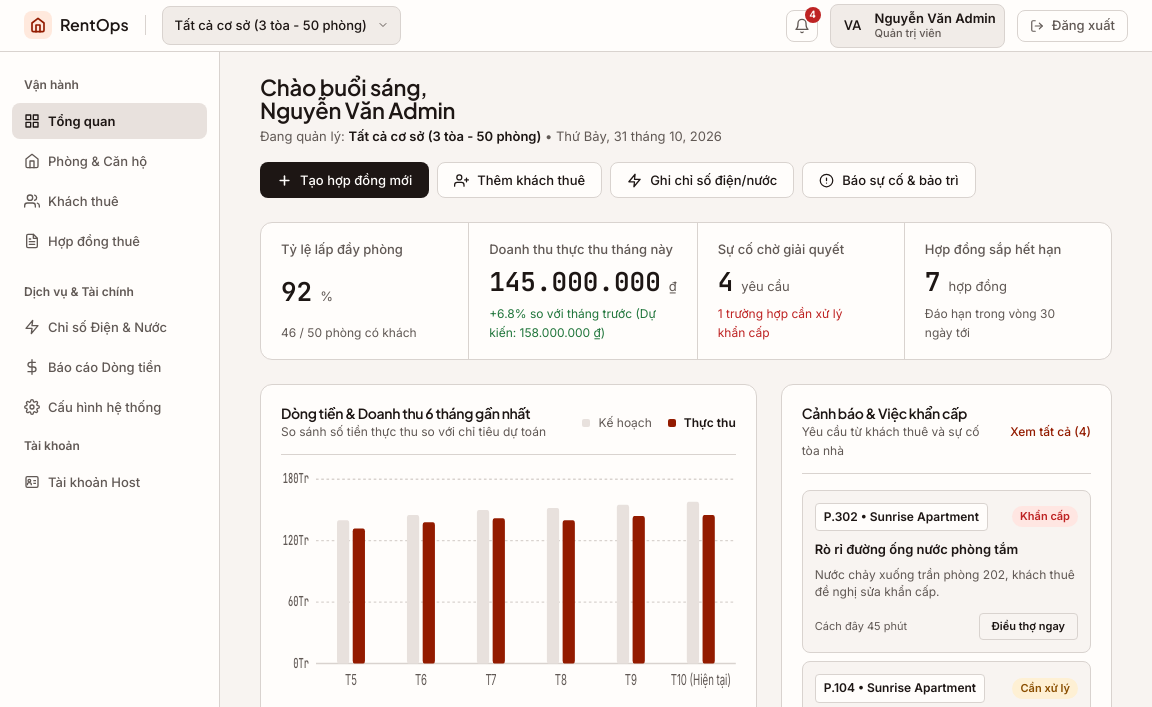
UC05 App integration › ends a forbidden operation but keeps the authenticated view
Step 1. Click the button with aria-label "Xem hồ sơ cá nhân của" → point(917, 26), box [830,4,1005,48]
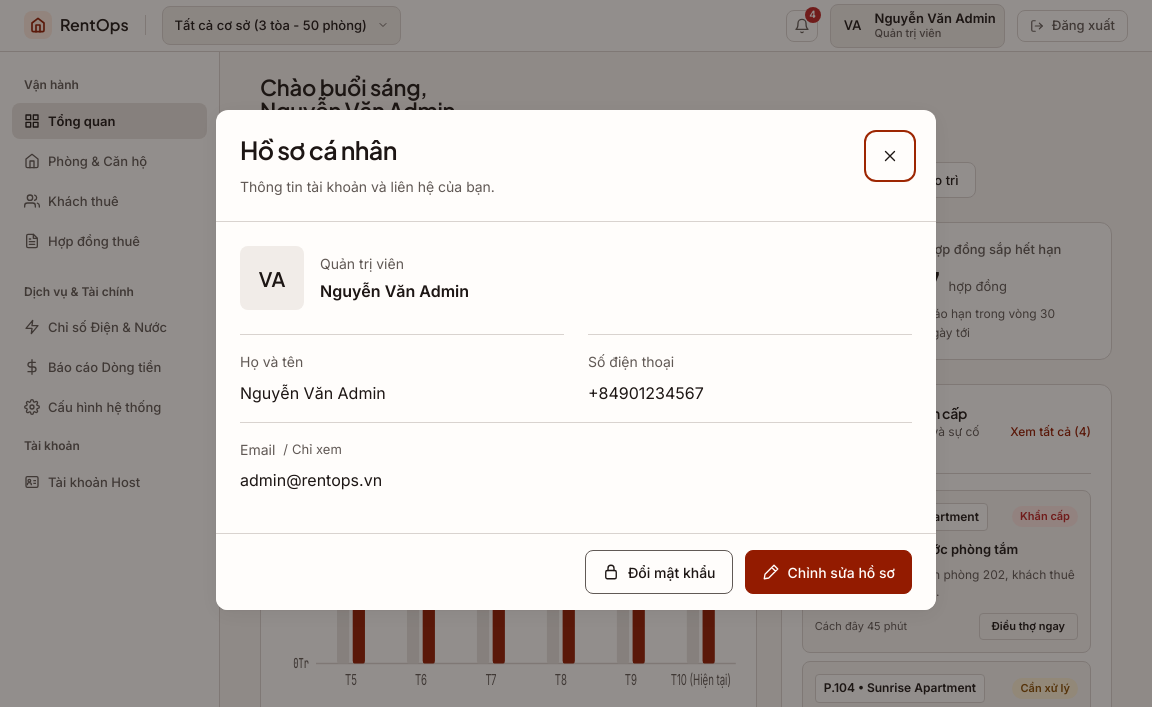
Step 2. Click the button "Đổi mật khẩu" → point(659, 572), box [585,550,732,594]
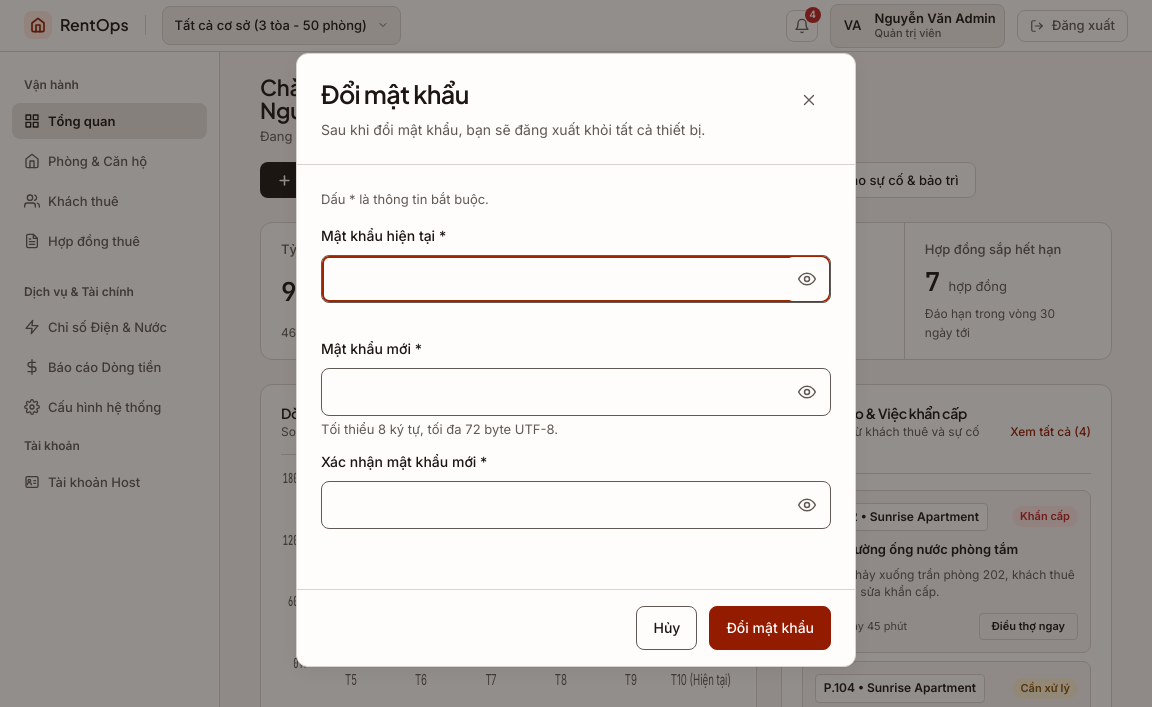
Step 3. Type "old" into the password field labelled "Mật khẩu hiện tại *" → point(576, 279), box [321,255,831,303]
Step 4. Type " newPassword123 " into the password field labelled "Mật khẩu mới *" → point(576, 392), box [321,368,831,416]
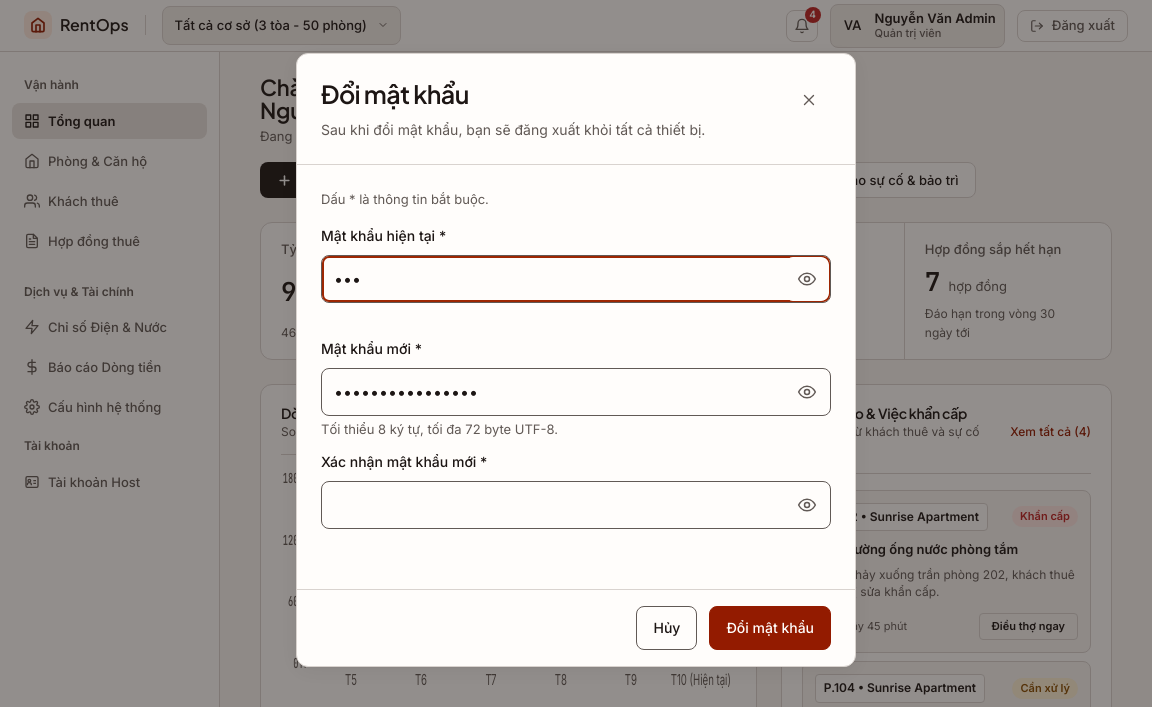
Step 5. Type " newPassword123 " into the password field labelled "Xác nhận mật khẩu mới *" → point(576, 505), box [321,481,831,529]
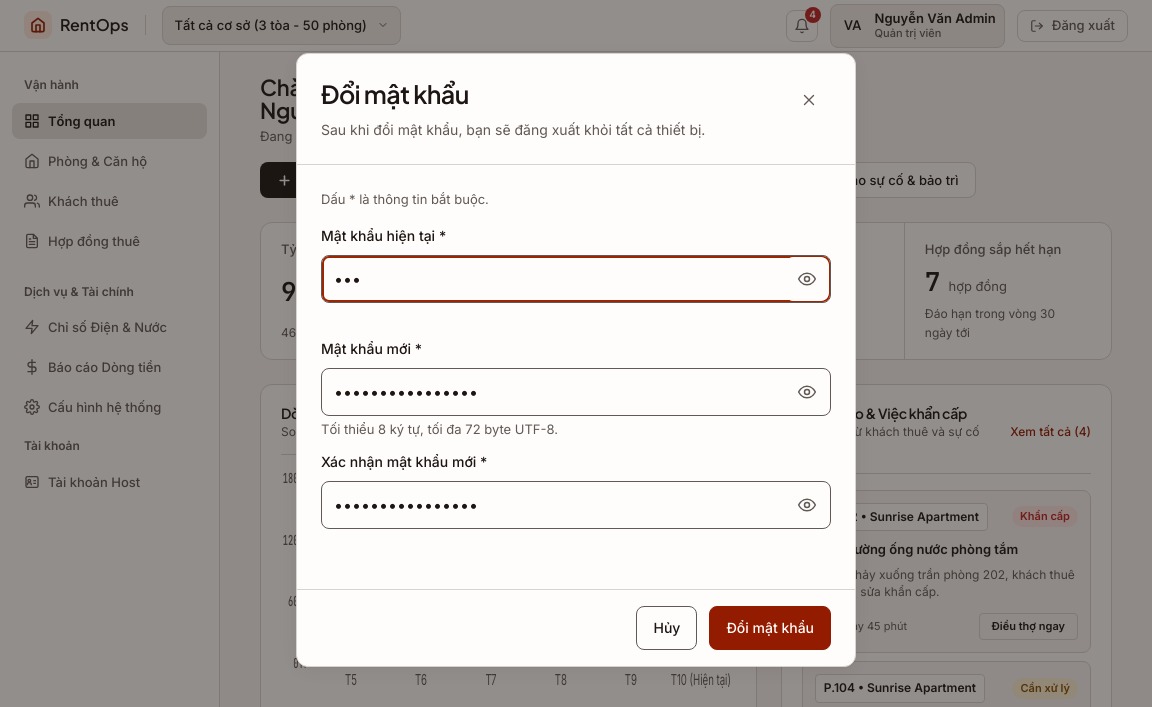
Step 6. Click the button "Đổi mật khẩu" → point(770, 628), box [709,606,831,650]
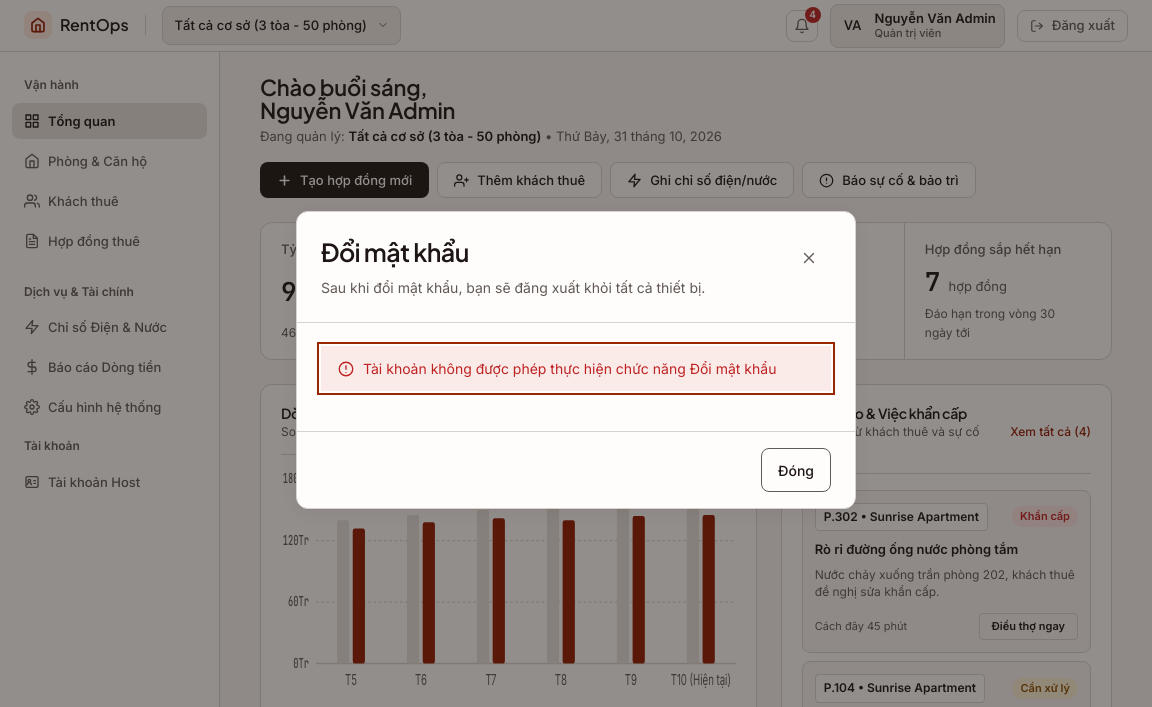
Expected: the text "Tài khoản không được phép thực hiện chức năng Đổi mật khẩu" is shown, [363,358,776,379]
Expected: the password field is gone
Step 7. Click the button "Đóng" → point(796, 470), box [761,448,831,492]
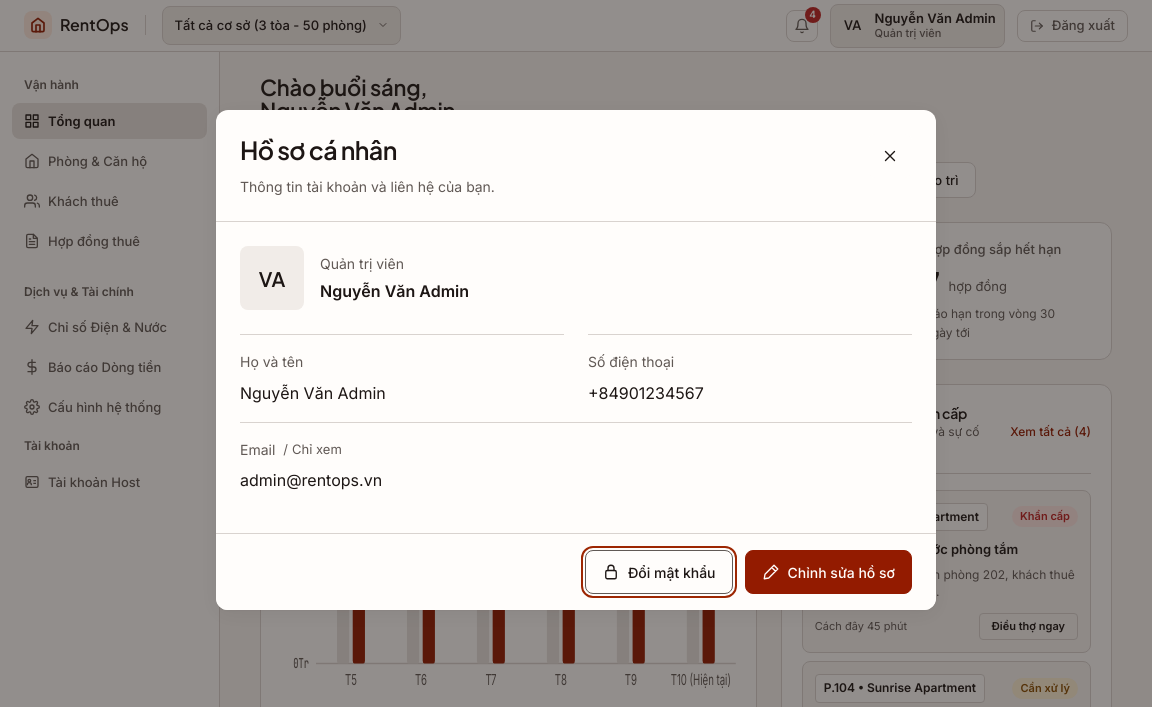
Expected: the heading "Hồ sơ cá nhân" is shown, [240,134,397,166]
